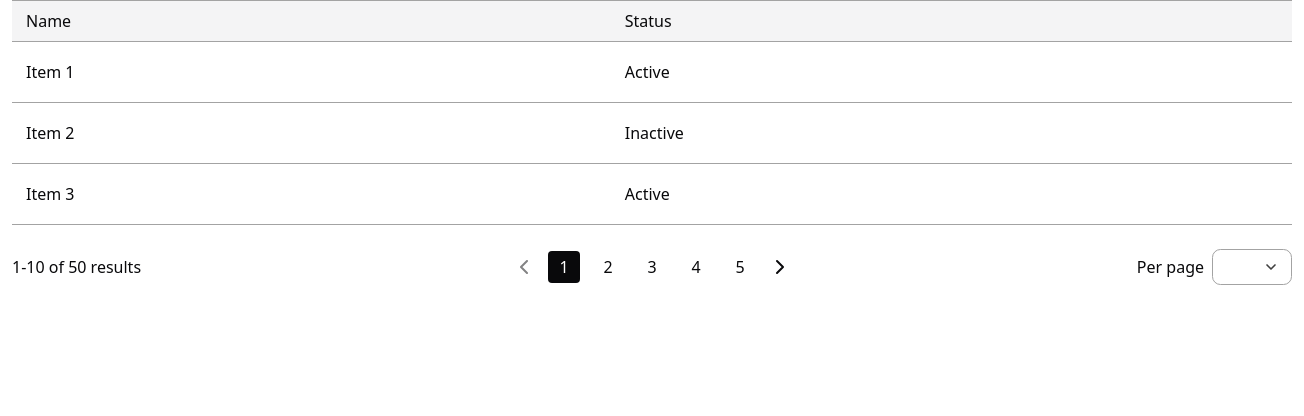
Test: PaginatedTable › passes custom pageSizeOptions to TablePagination
Click the dropdown with test id "paginated-table-pagination-page-size-trigger" at {"x": 1252, "y": 267}, box [1212,249,1292,285]
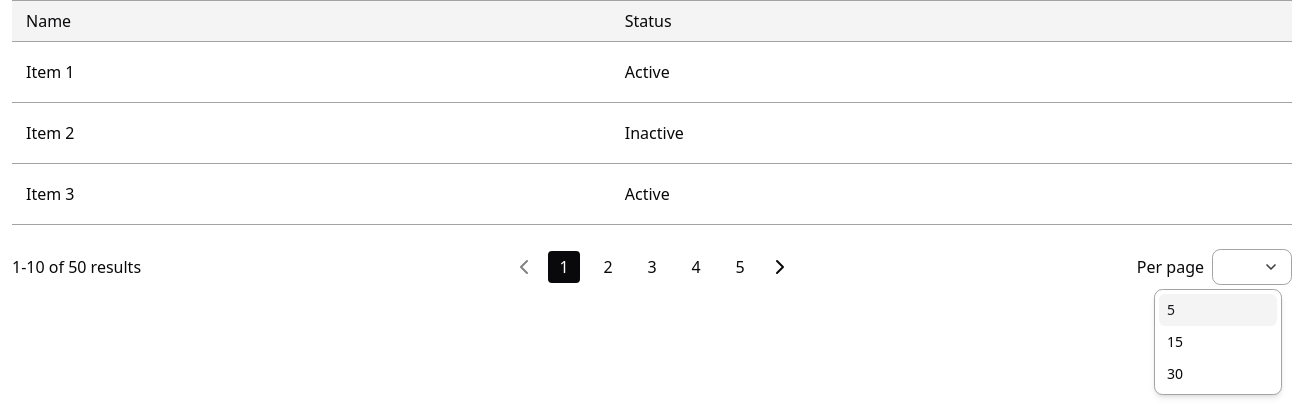
Expected: the option with test id "paginated-table-pagination-page-size-option-5" is shown, [1159,294,1277,326]
Expected: the option with test id "paginated-table-pagination-page-size-option-15" is shown, [1167,332,1183,351]
Expected: the option with test id "paginated-table-pagination-page-size-option-30" is shown, [1167,364,1183,383]
